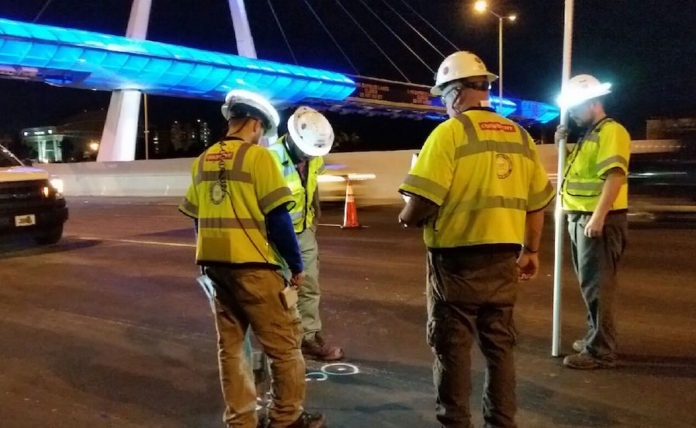white: (432, 50, 491, 116), (220, 86, 278, 143), (562, 71, 608, 130), (287, 108, 333, 164)
